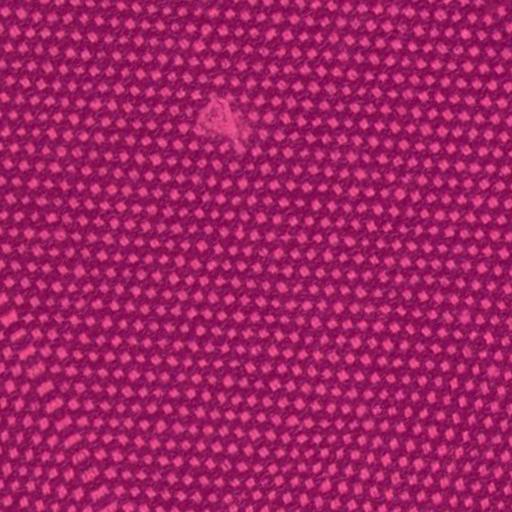knot: (188, 92, 259, 158)
